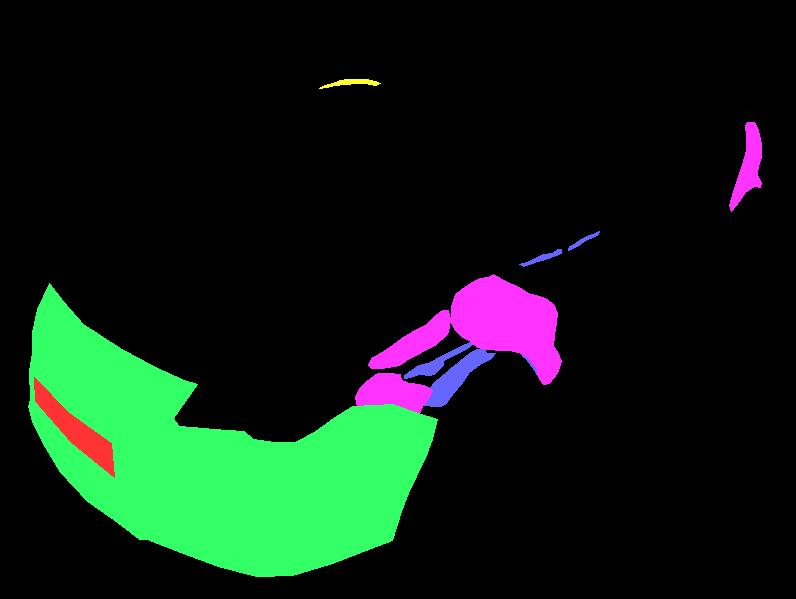Broken part: (28, 283, 437, 576)
Cracked: (319, 79, 380, 88)
Dent: (450, 274, 561, 384), (368, 310, 450, 368), (355, 373, 432, 416), (729, 122, 761, 211)
Missing part: (34, 377, 114, 477)
Scratch: (263, 440, 430, 526), (421, 349, 495, 406), (299, 535, 371, 572), (404, 342, 474, 378), (519, 249, 561, 266), (568, 231, 599, 250), (521, 352, 537, 375), (409, 341, 422, 352), (383, 357, 393, 367), (435, 334, 444, 339)
